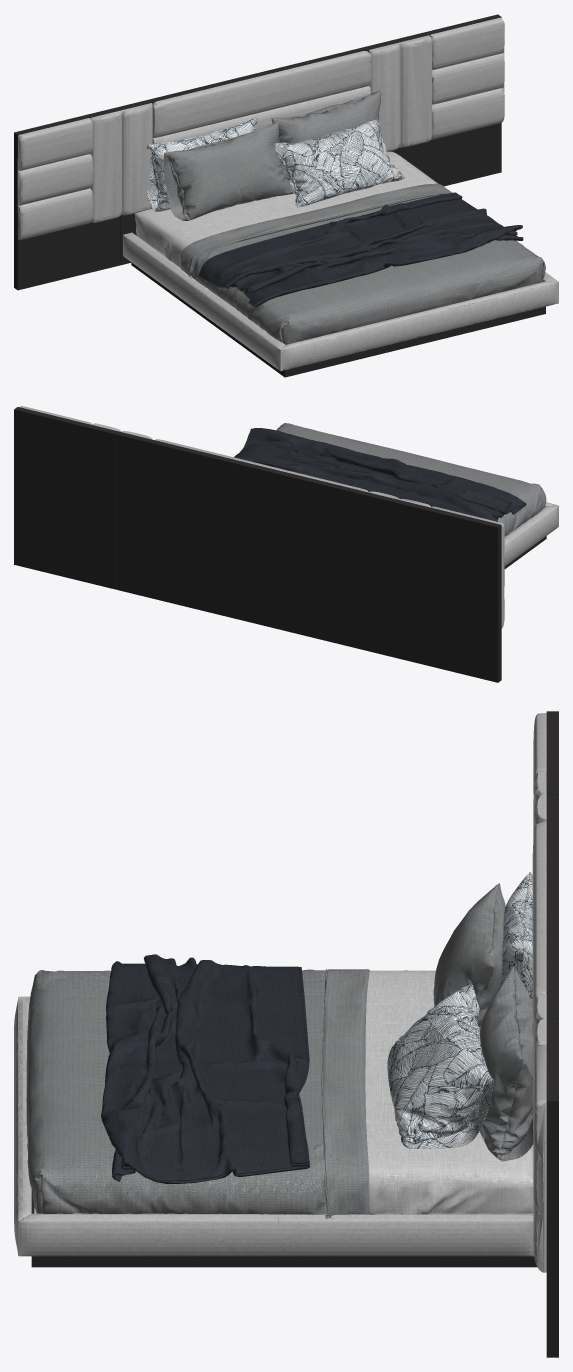
The model's file is cama.glb.
3 renders of one model, top to bottom at view 1: azimuth 30°, elevation 25°; view 2: azimuth 150°, elevation 25°; view 3: azimuth 270°, elevation 25°, orthographic. The views are drawn at different scales.
Parts seen in each view (by area): view 1: Componen01, Plane005, Componente, Box357, Group16, Group3, Plane009, Plane008, Plane001, Plane015, Group11, Plane013 (+1 smaller); view 2: Group1, Componen01, Componente, Box357, Plane005, Group16, Group3; view 3: Box357, Plane005, Group16, Plane001, Plane008, Plane015, Componente, Group11, Plane009, Group1, Plane013, Group3 (+1 smaller).
Boxes of the visible parts, box(x1,y1,x2,y2) form: Componen01: box(14, 103, 152, 290); Plane005: box(180, 183, 545, 344); Componente: box(369, 14, 504, 186); Box357: box(198, 192, 523, 307); Group16: box(123, 232, 558, 370); Group3: box(152, 51, 371, 186); Plane009: box(163, 122, 295, 220); Plane008: box(274, 119, 404, 207); Plane001: box(134, 151, 438, 267); Plane015: box(271, 90, 381, 182); Group11: box(131, 262, 545, 377); Plane013: box(146, 116, 257, 211); Group1: box(117, 432, 398, 657); Componen01: box(369, 491, 504, 682); Componente: box(14, 406, 152, 589); Box357: box(234, 428, 526, 521); Plane005: box(276, 423, 546, 536); Group16: box(504, 502, 558, 566); Group3: box(154, 439, 368, 492); Box357: box(101, 954, 309, 1183); Plane005: box(26, 969, 369, 1217); Group16: box(14, 996, 534, 1256); Plane001: box(365, 970, 533, 1214); Plane008: box(387, 979, 493, 1148); Plane015: box(480, 966, 533, 1161); Componente: box(533, 993, 558, 1357); Group11: box(31, 1189, 537, 1267); Plane009: box(433, 883, 505, 1029); Group1: box(546, 794, 558, 1018); Plane013: box(500, 872, 532, 1002); Group3: box(532, 821, 546, 1130).
Bounding box in the file's own units: 3.61 × 1.1 × 2.12.
Materials: 7 (6 with a texture image).
